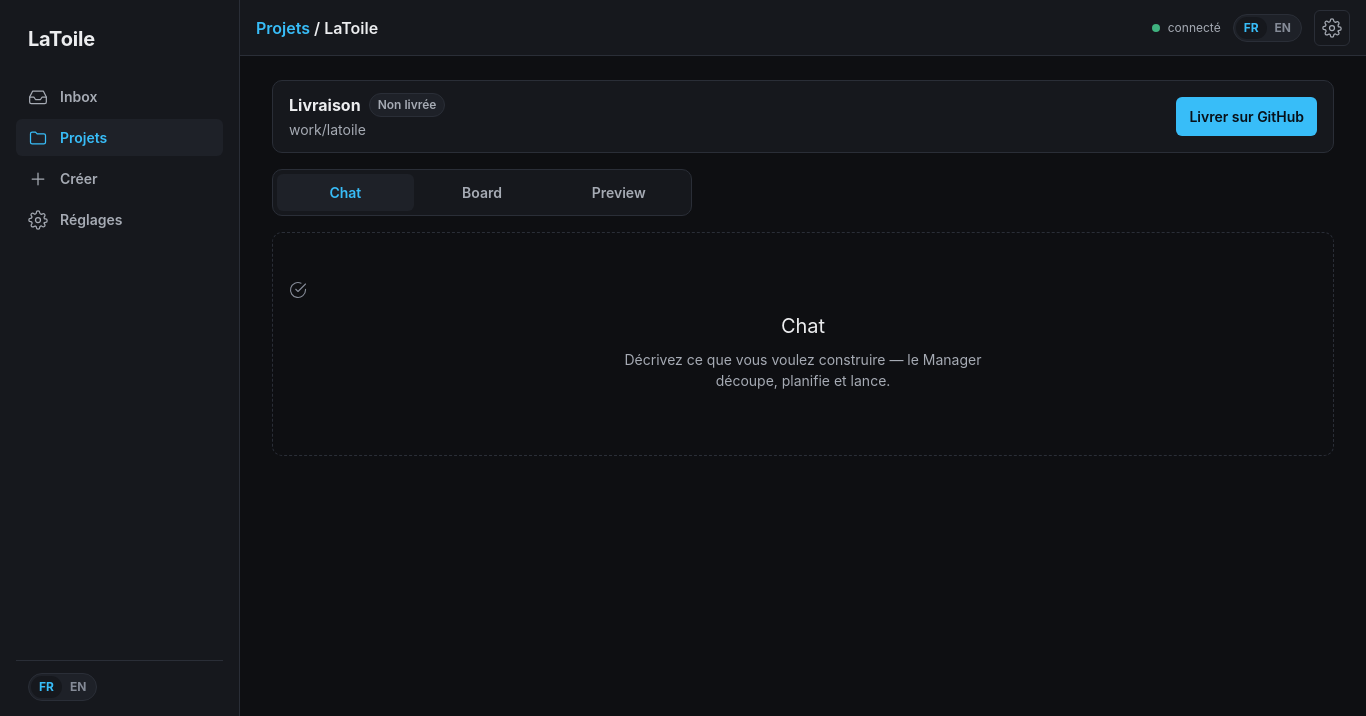
Test: ProjectScreen visual contract › delivers only on owner action and shows verified PR evidence
The width and height of the screenshot is (1366, 716).
Step 1. Click the button "Livrer sur GitHub" → (1247, 116), box 1176,97 -> 1317,136
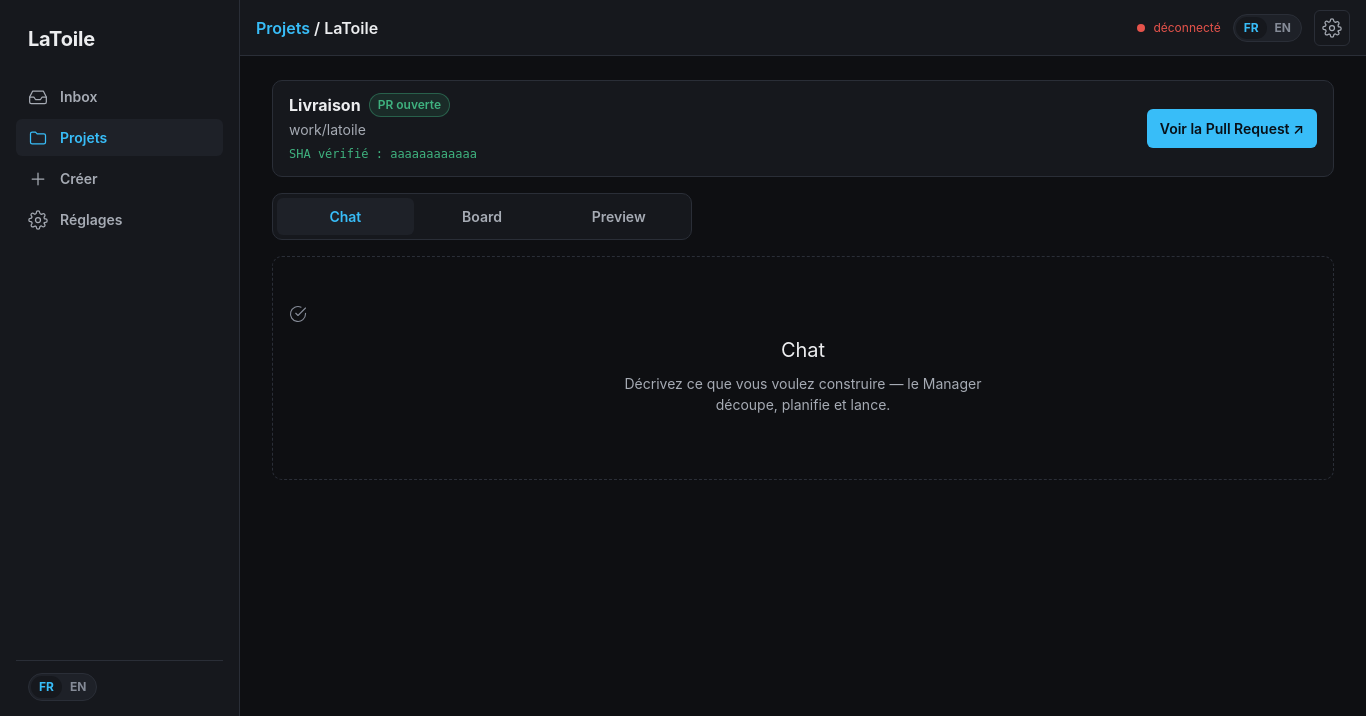
Result: the text "SHA vérifié : aaaaaaaaaaaa" is shown at 289,145 -> 477,163
Result: the button "Livrer sur GitHub" is gone
